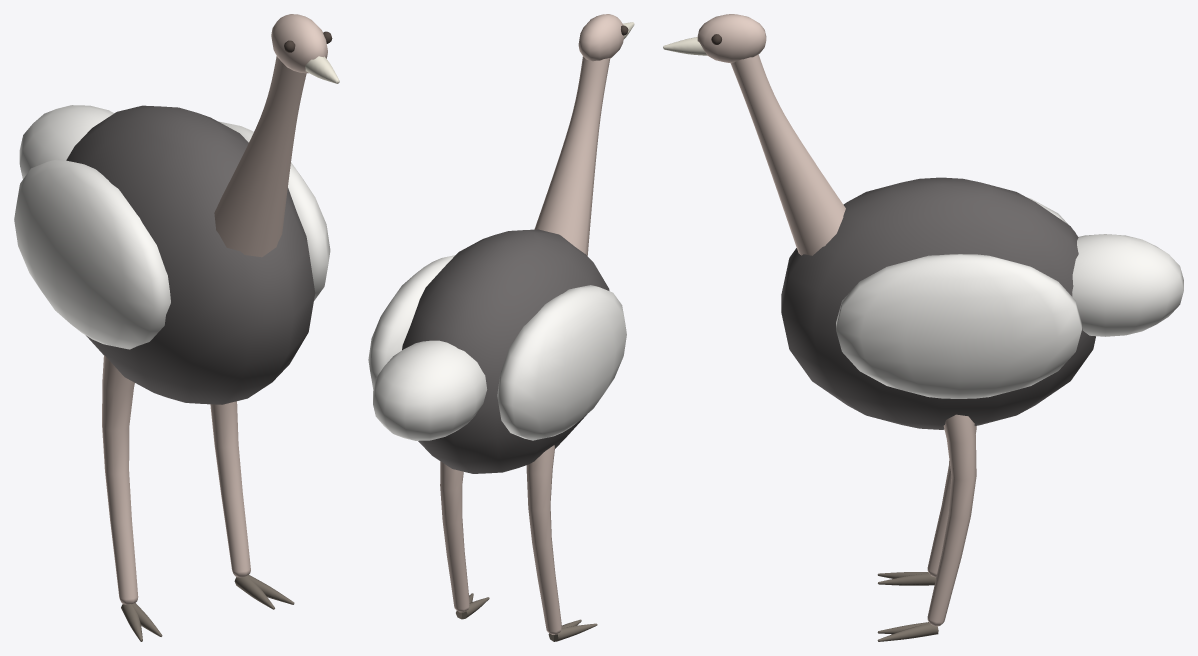
File: savanna-wildlife-common-ostrich-f74d3967__6552.glb
The picture shows the model from 3 angles, left to right: view 1: azimuth 30°, elevation 25°; view 2: azimuth 150°, elevation 25°; view 3: azimuth 270°, elevation 25°; orthographic projection. The views are drawn at different scales.
Parts seen in each view (by area): view 1: common-ostrich; view 2: common-ostrich; view 3: common-ostrich.
Boxes of the visible parts, bbox=[...] form: common-ostrich: bbox=[14, 14, 339, 641]; common-ostrich: bbox=[368, 14, 634, 641]; common-ostrich: bbox=[663, 14, 1183, 641].
Size of the model in its own units: 0.9599 by 2.6 by 2.07.
